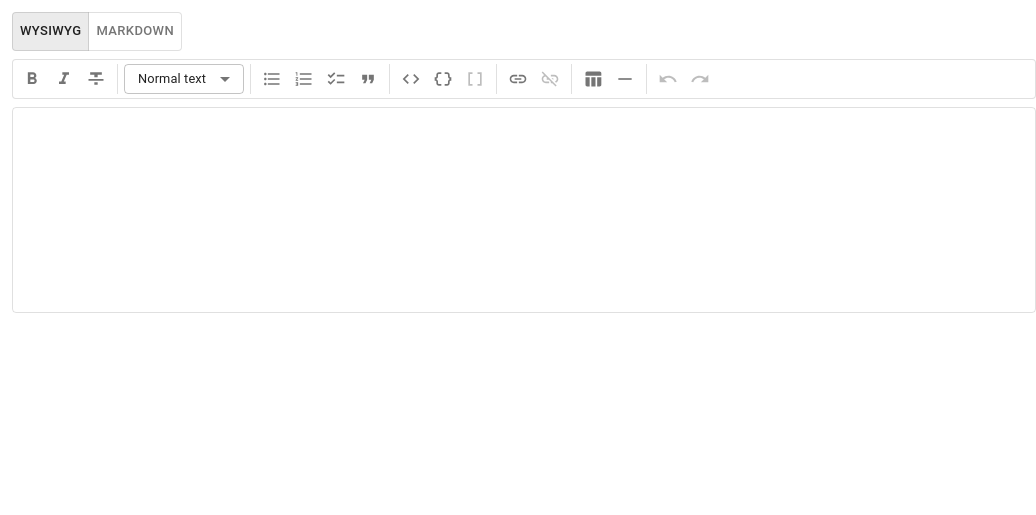
MarkdownPanelEditor › opens a menu of table actions when the Table button is clicked
The width and height of the screenshot is (1036, 515).
Click the button named "Table" at (593, 79), box [578,64,608,94]
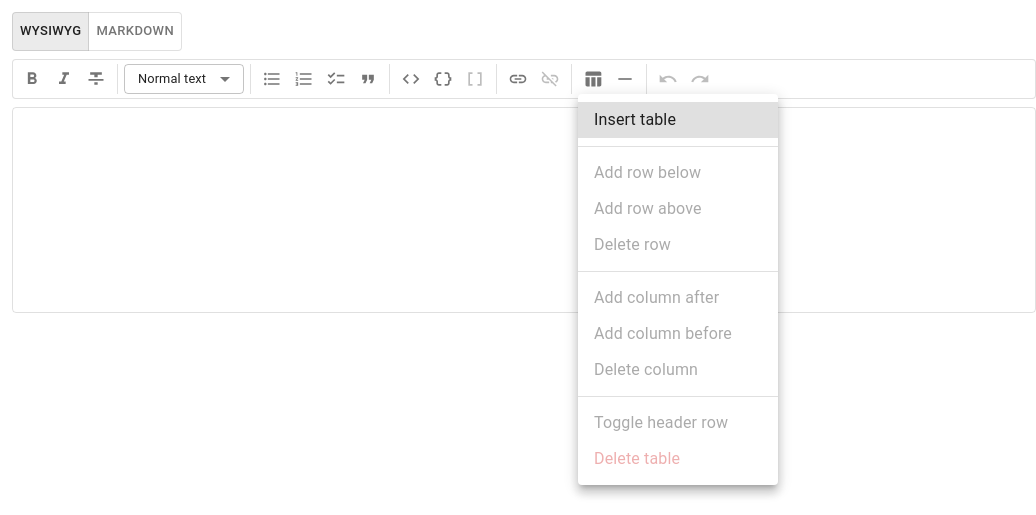
Expected: the menu item "Insert table" is shown, [578,102,778,138]
Expected: the menu item "Add row below" is shown, [594,163,701,182]
Expected: the menu item "Delete row" is shown, [594,235,671,254]
